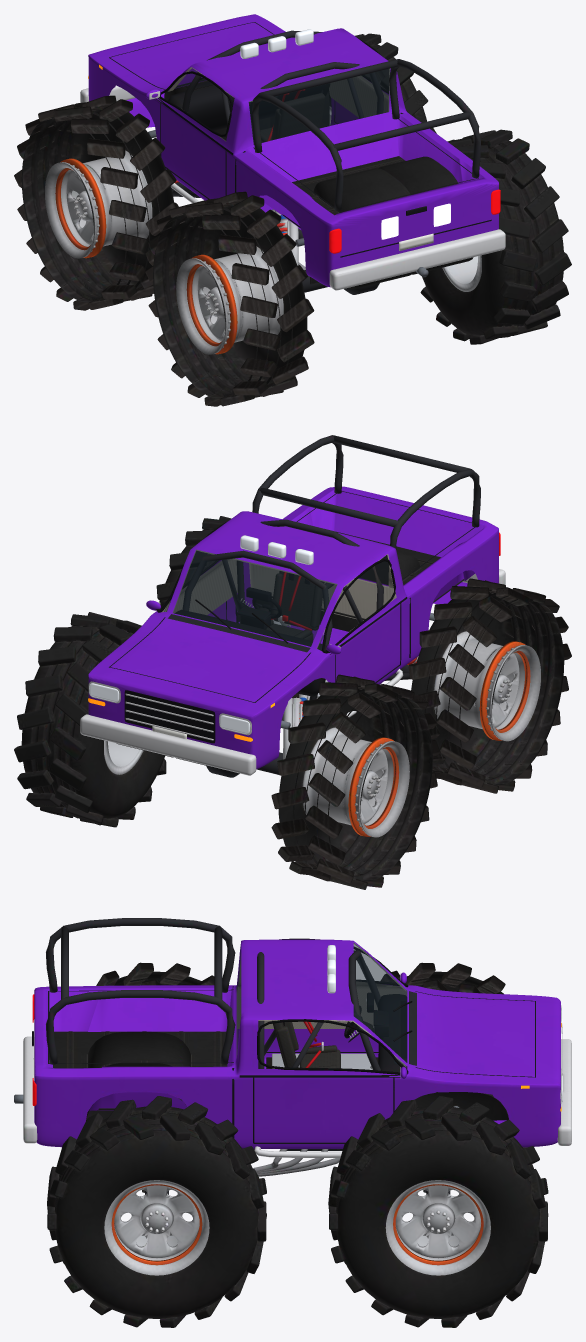
The model's file is MonsterTruck.glb.
3 renders of one model, top to bottom at view 1: azimuth 30°, elevation 25°; view 2: azimuth 150°, elevation 25°; view 3: azimuth 270°, elevation 25°, orthographic. The views are drawn at different scales.
Visible parts, largest first — view 1: MonsterTruck_Body, MonsterTruck_Wheel3, MonsterTruck_Wheel1, MonsterTruck_Wheel4, MonsterTruck_Trim, MonsterTruck_Trim2, MonsterTruck_Interior, MonsterTruck_Glass, MonsterTruck_Lights, MonsterTruck_Wheel2; view 2: MonsterTruck_Body, MonsterTruck_Wheel1, MonsterTruck_Wheel3, MonsterTruck_Wheel2, MonsterTruck_Trim, MonsterTruck_Glass, MonsterTruck_Interior, MonsterTruck_Trim2, MonsterTruck_Lights, MonsterTruck_Wheel4; view 3: MonsterTruck_Body, MonsterTruck_Wheel4, MonsterTruck_Wheel2, MonsterTruck_Trim, MonsterTruck_Trim2, MonsterTruck_Interior, MonsterTruck_Glass, MonsterTruck_Wheel1, MonsterTruck_Wheel3, MonsterTruck_Lights.
Part boxes in pixels (x1=…): MonsterTruck_Body: x1=88, y1=14, x2=498, y2=287; MonsterTruck_Wheel3: x1=145, y1=191, x2=314, y2=406; MonsterTruck_Wheel1: x1=14, y1=95, x2=178, y2=310; MonsterTruck_Wheel4: x1=420, y1=129, x2=571, y2=344; MonsterTruck_Trim: x1=80, y1=30, x2=505, y2=294; MonsterTruck_Trim2: x1=109, y1=22, x2=491, y2=289; MonsterTruck_Interior: x1=168, y1=67, x2=389, y2=144; MonsterTruck_Glass: x1=165, y1=68, x2=389, y2=144; MonsterTruck_Lights: x1=88, y1=29, x2=500, y2=253; MonsterTruck_Wheel2: x1=328, y1=33, x2=436, y2=133; MonsterTruck_Body: x1=88, y1=486, x2=498, y2=769; MonsterTruck_Wheel1: x1=271, y1=674, x2=440, y2=889; MonsterTruck_Wheel3: x1=408, y1=578, x2=571, y2=793; MonsterTruck_Wheel2: x1=14, y1=612, x2=166, y2=827; MonsterTruck_Trim: x1=80, y1=435, x2=505, y2=777; MonsterTruck_Glass: x1=164, y1=549, x2=388, y2=650; MonsterTruck_Interior: x1=161, y1=549, x2=396, y2=698; MonsterTruck_Trim2: x1=109, y1=435, x2=474, y2=771; MonsterTruck_Lights: x1=88, y1=532, x2=500, y2=741; MonsterTruck_Wheel4: x1=156, y1=516, x2=231, y2=605; MonsterTruck_Body: x1=34, y1=939, x2=560, y2=1148; MonsterTruck_Wheel4: x1=47, y1=1096, x2=266, y2=1327; MonsterTruck_Wheel2: x1=328, y1=1096, x2=548, y2=1327; MonsterTruck_Trim: x1=23, y1=918, x2=571, y2=1194; MonsterTruck_Trim2: x1=14, y1=926, x2=535, y2=1150; MonsterTruck_Interior: x1=236, y1=943, x2=407, y2=1074; MonsterTruck_Glass: x1=236, y1=943, x2=407, y2=1066; MonsterTruck_Wheel1: x1=381, y1=962, x2=527, y2=1192; MonsterTruck_Wheel3: x1=96, y1=962, x2=214, y2=1192; MonsterTruck_Lights: x1=32, y1=945, x2=562, y2=1111.
Size of the model in its own units: 14.5 by 11.3 by 19.67.
14 materials, 9 textured.
